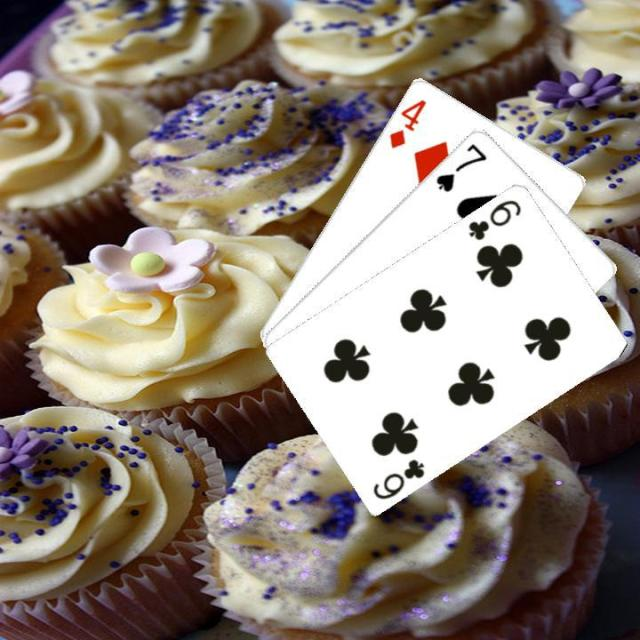4D: (385, 94, 428, 150)
6C: (464, 194, 524, 242), (369, 454, 427, 502)
7S: (432, 138, 489, 194)
